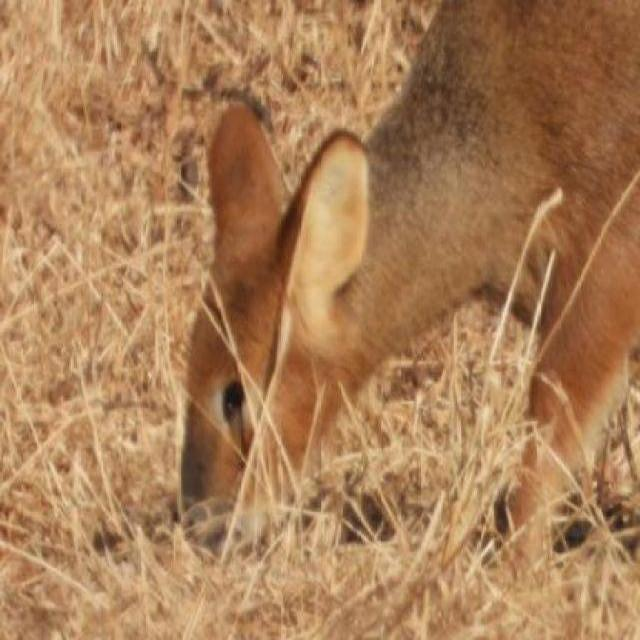deer: (177, 0, 639, 541)
